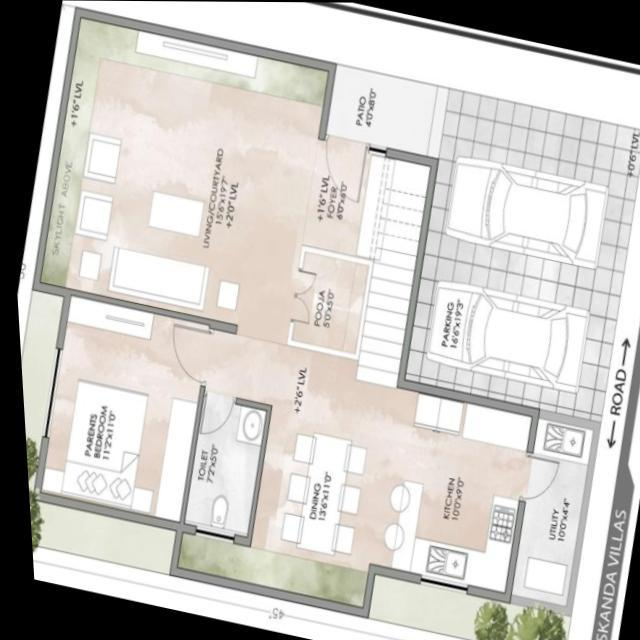Bedroom: (33, 297, 204, 523)
Dining: (270, 422, 366, 562)
Enterance-Foyer: (305, 132, 367, 230)
Kitchen: (363, 386, 527, 595)
Living: (60, 25, 334, 337)
Pooja: (283, 249, 365, 355)
Toilet: (176, 395, 261, 537)
Utility: (503, 417, 588, 607)
